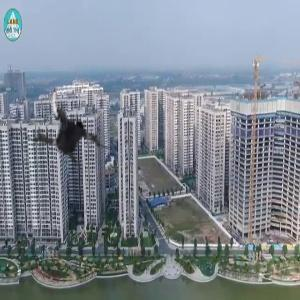drone: (21, 75, 122, 176)
